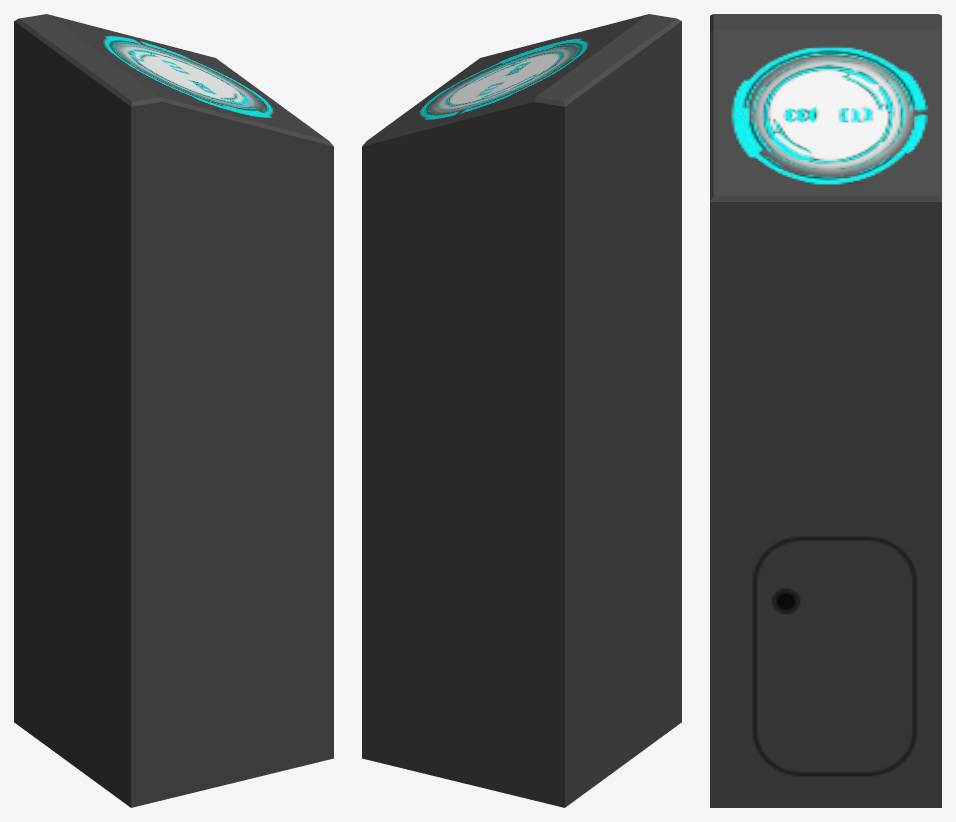
Rendered from Controller.fbx.
3 renders of one model, left to right at view 1: azimuth 30°, elevation 25°; view 2: azimuth 150°, elevation 25°; view 3: azimuth 270°, elevation 25°, orthographic.
Parts seen in each view (by area): view 1: Cube; view 2: Cube; view 3: Cube.
Boxes of the visible parts, x1=… form: Cube: x1=14, y1=14, x2=333, y2=807; Cube: x1=362, y1=14, x2=681, y2=807; Cube: x1=710, y1=14, x2=941, y2=807.
Bounding box in the file's own units: 41.4 × 137 × 41.4.
